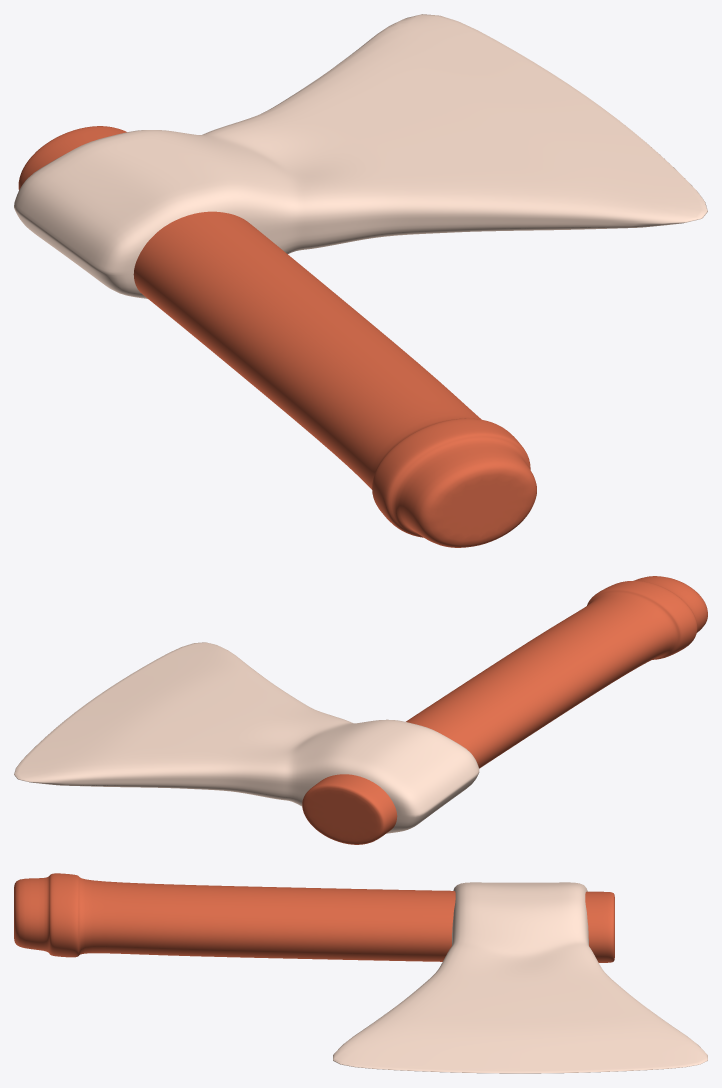
File: axe.glb
3 views of the same model, one above another, from view 1: azimuth 30°, elevation 25°; view 2: azimuth 150°, elevation 25°; view 3: azimuth 270°, elevation 25° (orthographic). The views are drawn at different scales.
Parts seen in each view (by area): view 1: Cube, Cylinder; view 2: Cube, Cylinder; view 3: Cube, Cylinder.
Part boxes in pixels (<box>): Cube: <box>14,14,707,298</box>; Cylinder: <box>18,126,536,547</box>; Cube: <box>14,642,479,833</box>; Cylinder: <box>302,576,707,844</box>; Cube: <box>333,882,707,1073</box>; Cylinder: <box>14,873,614,962</box>.
Size of the model in its own units: 6.4 by 1.14 by 10.14.
